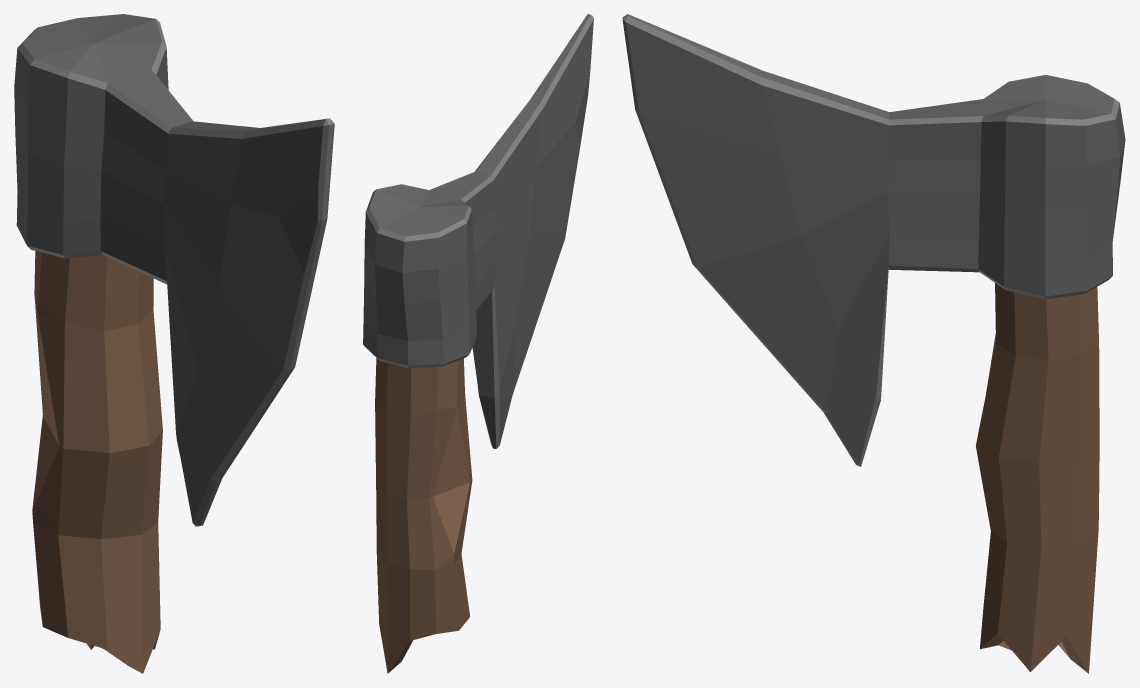
The model's file is Axe_02_Destroyed.fbx.
3 views of the same model, side by side, from view 1: azimuth 30°, elevation 25°; view 2: azimuth 150°, elevation 25°; view 3: azimuth 270°, elevation 25° (orthographic). The views are drawn at different scales.
Parts seen in each view (by area): view 1: Axe_02_Destroyed1; view 2: Axe_02_Destroyed1; view 3: Axe_02_Destroyed1.
Boxes of the visible parts, <box> form: Axe_02_Destroyed1: <box>14,14,334,673</box>; Axe_02_Destroyed1: <box>363,14,593,673</box>; Axe_02_Destroyed1: <box>622,14,1125,673</box>.
Size of the model in its own units: 13.94 by 70.65 by 49.54.
